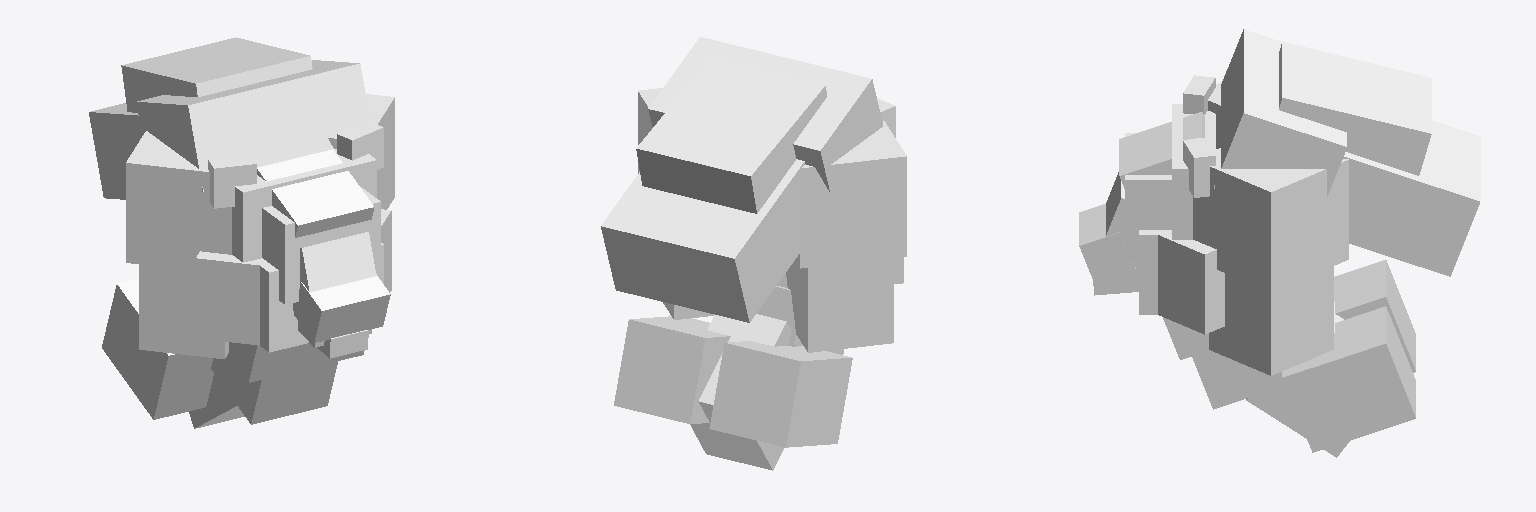
File: lion_head.obj
3 renders of one model, left to right at view 1: azimuth 30°, elevation 25°; view 2: azimuth 150°, elevation 25°; view 3: azimuth 270°, elevation 25°, orthographic.
Visible parts, largest first — view 1: Element #25, Element #17, Element #14, Element #21, Element #11, Element #16, Element #20, Element #28, Element #8, Element #7, Element #13, Element #5 (+9 smaller); view 2: Element #22, Element #14, Element #21, Element #17, Element #25, Element #3, Element #20, Element #27, Element #28, Element #18; view 3: Element #18, Element #22, Element #14, Element #3, Element #25, Element #19, Element #15, Element #21, Element #7, Element #11, Element #28, Element #8 (+7 smaller).
Boxes of the visible parts, x1,y1,x2,y2 form: Element #25: [136, 60, 370, 191]; Element #17: [126, 131, 231, 270]; Element #14: [121, 37, 312, 112]; Element #21: [102, 278, 213, 419]; Element #11: [257, 149, 373, 237]; Element #16: [196, 251, 262, 345]; Element #20: [139, 264, 228, 358]; Element #28: [211, 355, 337, 424]; Element #8: [294, 274, 390, 342]; Element #7: [262, 187, 380, 304]; Element #13: [232, 149, 376, 262]; Element #5: [293, 232, 376, 310]; Element #22: [601, 159, 805, 322]; Element #14: [636, 58, 826, 213]; Element #21: [709, 341, 852, 447]; Element #17: [795, 121, 906, 268]; Element #25: [648, 37, 882, 193]; Element #3: [614, 316, 730, 423]; Element #20: [786, 258, 893, 352]; Element #27: [690, 314, 790, 470]; Element #28: [757, 286, 843, 354]; Element #18: [638, 88, 662, 173]; Element #18: [1193, 148, 1348, 291]; Element #22: [1343, 120, 1480, 276]; Element #14: [1279, 42, 1431, 175]; Element #3: [1282, 306, 1415, 452]; Element #25: [1213, 29, 1346, 196]; Element #19: [1209, 266, 1333, 375]; Element #15: [1158, 230, 1224, 334]; Element #21: [1334, 260, 1415, 372]; Element #7: [1125, 133, 1171, 259]; Element #11: [1119, 112, 1204, 188]; Element #28: [1192, 350, 1284, 409]; Element #8: [1079, 204, 1135, 283].
Size of the model in its own units: 14.07 by 18.54 by 18.16.